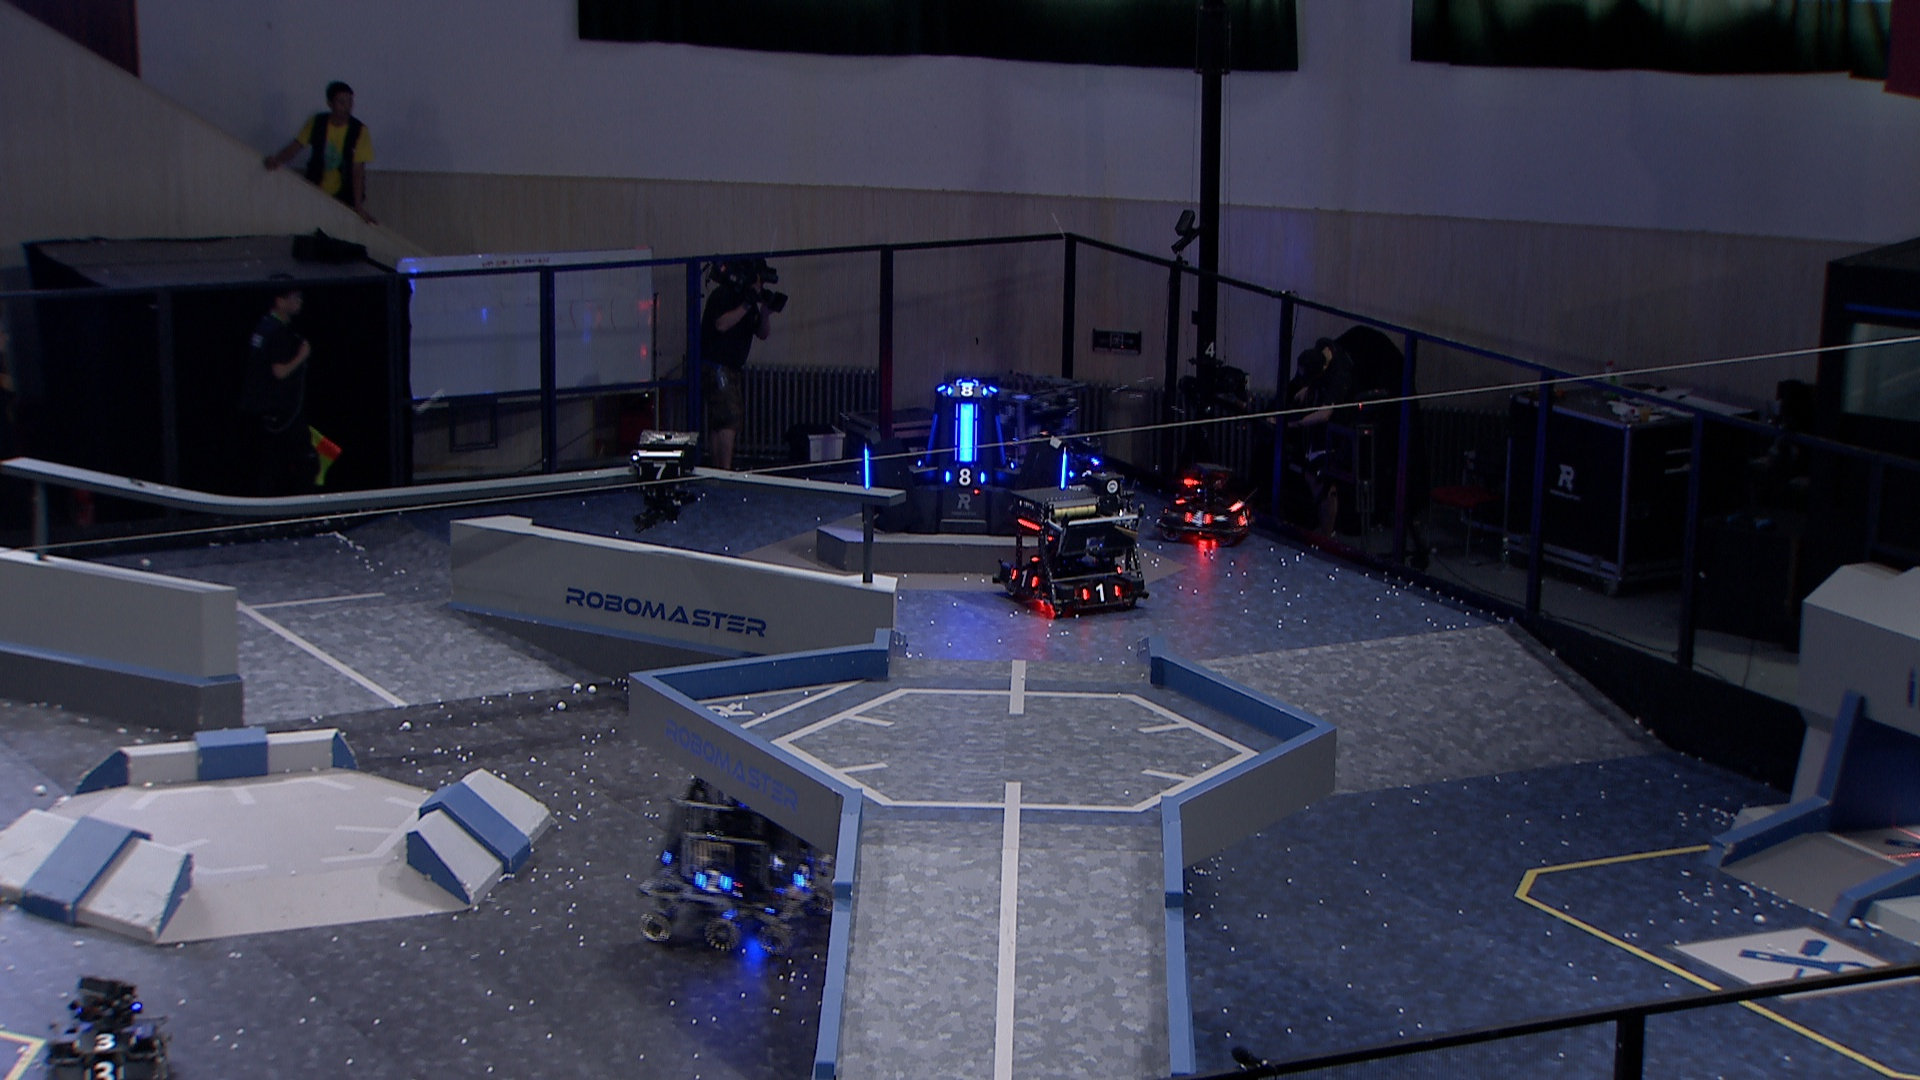armor: (71, 1029, 138, 1058), (953, 404, 978, 465), (920, 413, 942, 469), (1077, 579, 1124, 604), (636, 460, 683, 483), (694, 869, 733, 895), (942, 467, 988, 489), (80, 1059, 129, 1080), (1006, 567, 1040, 589), (793, 861, 818, 891), (944, 382, 988, 400), (146, 1036, 171, 1062), (861, 444, 874, 491), (1182, 510, 1215, 527), (1058, 450, 1069, 491), (1234, 505, 1251, 527)
base: (856, 380, 1077, 541)
car: (633, 761, 845, 953), (945, 367, 1093, 514), (992, 480, 1149, 618), (44, 975, 175, 1080), (1160, 455, 1258, 547)
watcher: (628, 427, 705, 533)
